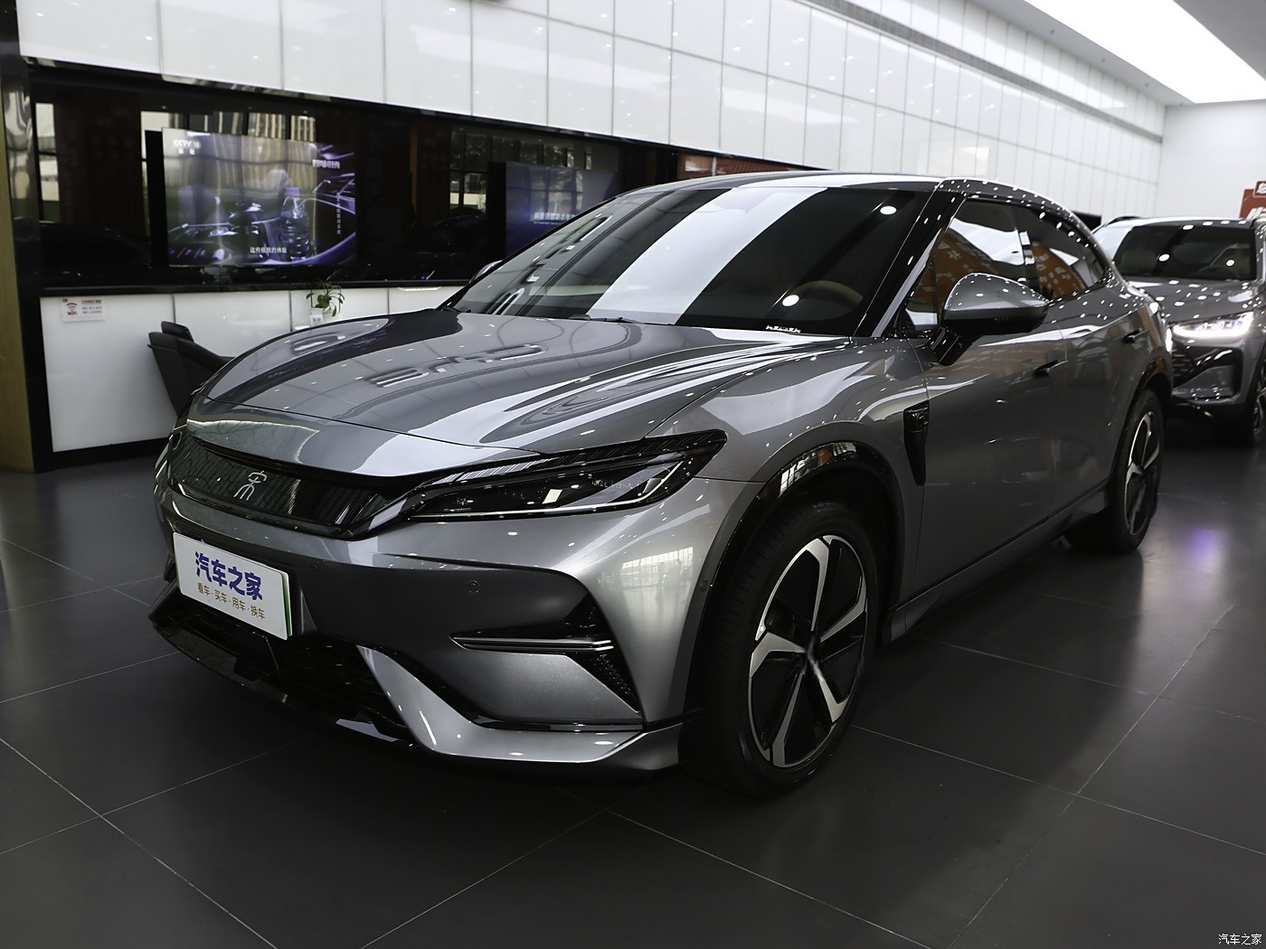BYD Song: (234, 471, 267, 501)
